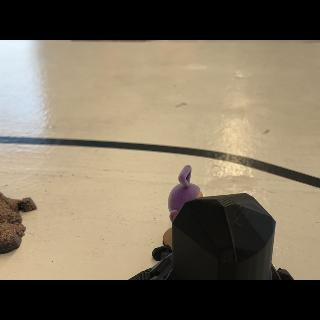teletubby: (168, 165, 203, 222)
